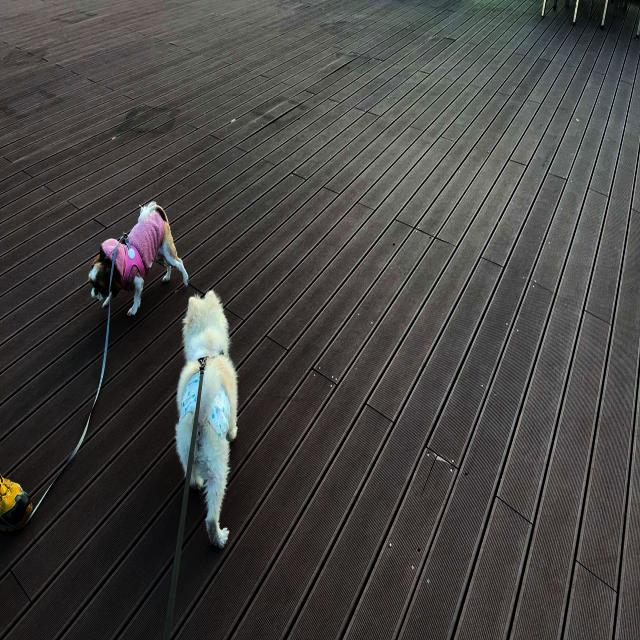Dog: (175, 288, 239, 551), (89, 199, 190, 318)
